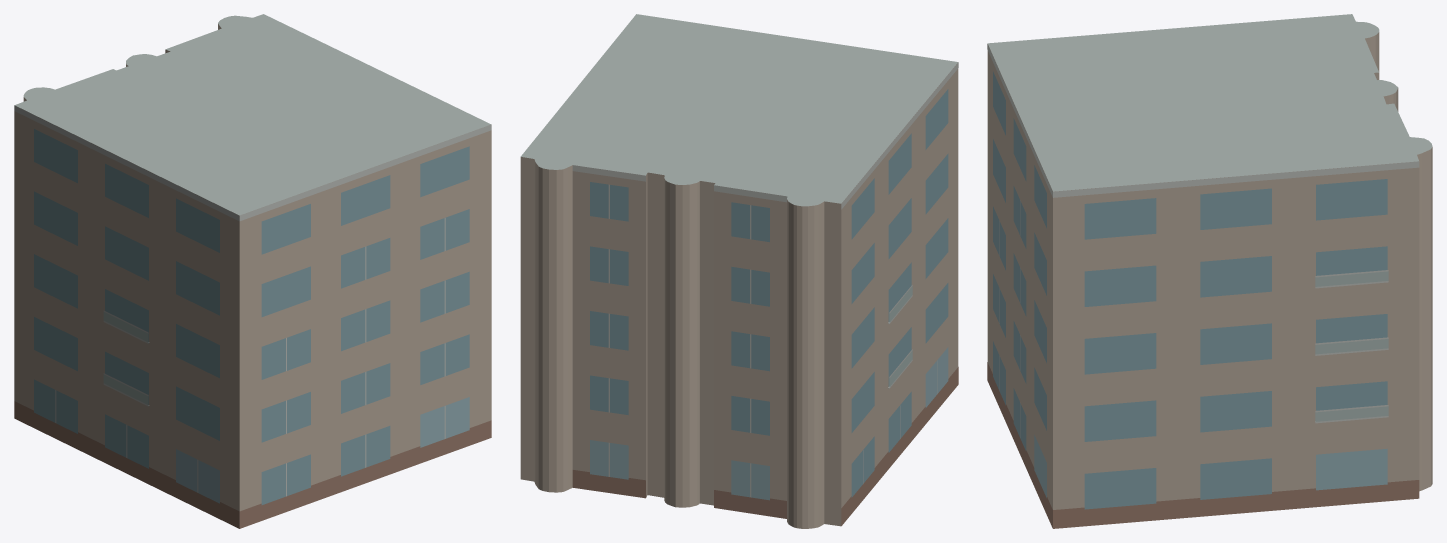
The model's file is survey-upis-32885732.glb.
3 renders of one model, left to right at view 1: azimuth 30°, elevation 25°; view 2: azimuth 150°, elevation 25°; view 3: azimuth 270°, elevation 25°, orthographic. The views are drawn at different scales.
Visible parts, largest first — view 1: survey-upis-32885732.tmp; view 2: survey-upis-32885732.tmp; view 3: survey-upis-32885732.tmp.
Part boxes in pixels (left/top/right/bottom): survey-upis-32885732.tmp: left=14, top=14, right=491, bottom=528; survey-upis-32885732.tmp: left=520, top=14, right=958, bottom=528; survey-upis-32885732.tmp: left=987, top=14, right=1432, bottom=528.
Bounding box in the file's own units: 14.8 × 13.1 × 15.67.
